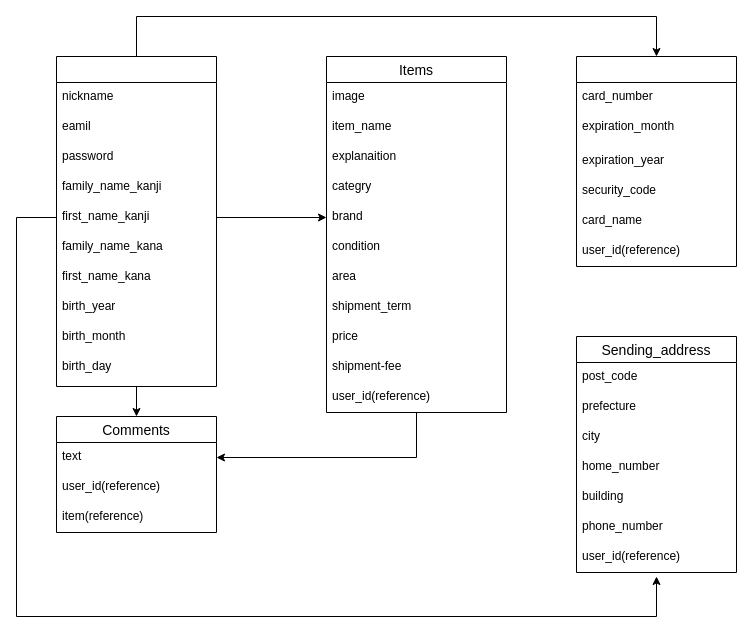
The diagram is 753 pixels wide and 633 high, and some of its shapes have lost their labels. Each missing label, with the box of its shape:
Credit_card: (576, 56, 736, 266)
Users: (56, 56, 216, 386)
